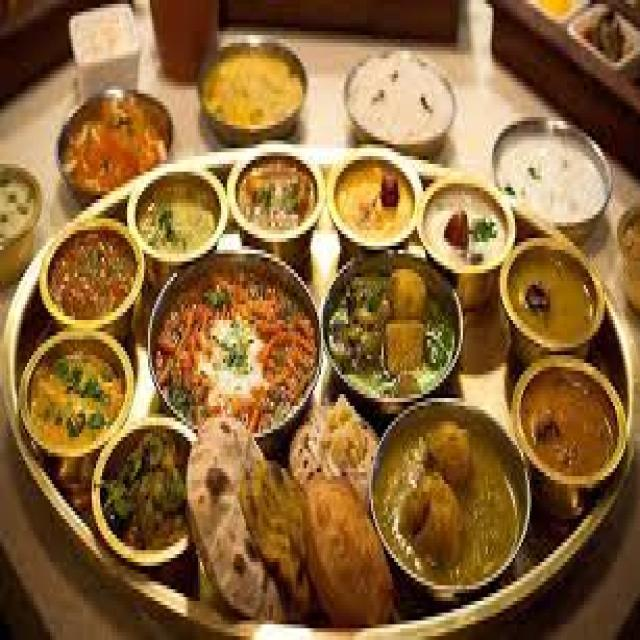curd: (133, 170, 226, 271)
dal: (491, 111, 622, 234), (513, 361, 625, 481), (198, 36, 307, 148), (20, 348, 128, 458), (42, 223, 141, 336), (131, 171, 224, 270), (0, 159, 44, 284)
papad: (293, 394, 382, 503)
rice: (29, 339, 133, 461)
roti: (183, 416, 307, 614)
sambar-rasam: (490, 107, 622, 244), (514, 352, 625, 485), (58, 83, 175, 209), (198, 30, 303, 147), (236, 151, 320, 246), (140, 0, 226, 81)
sweet: (36, 223, 146, 337)
veg-fry: (57, 82, 177, 208), (341, 43, 461, 164)
